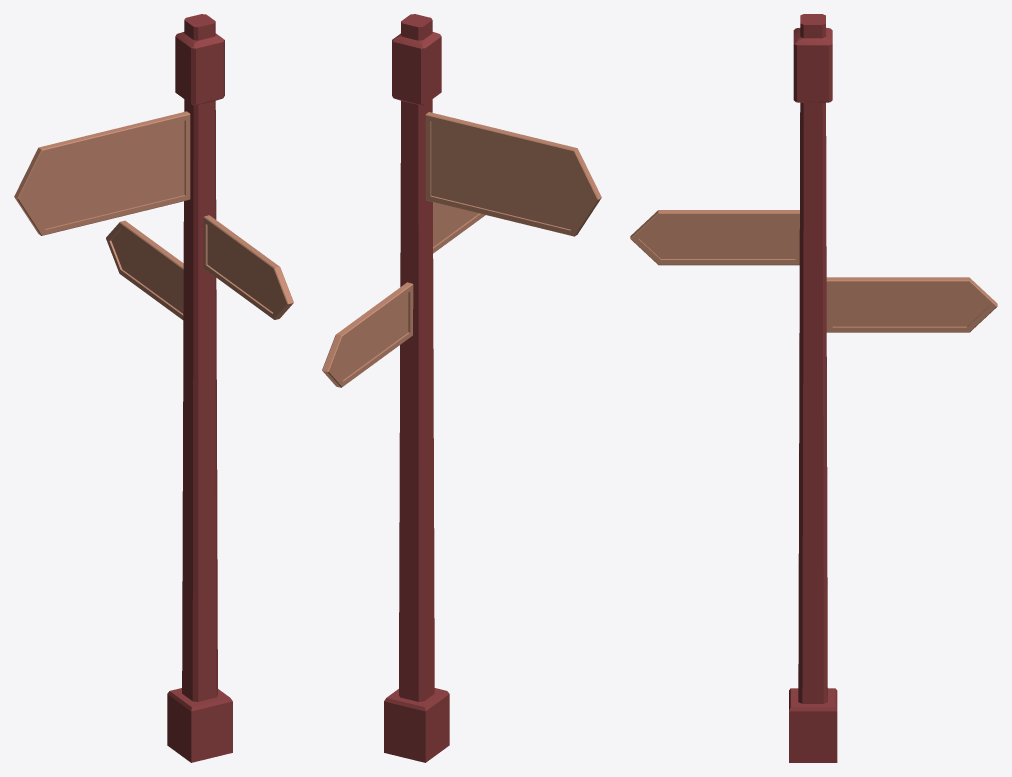
The model's file is streetsign_a002.glb.
3 renders of one model, left to right at view 1: azimuth 30°, elevation 25°; view 2: azimuth 150°, elevation 25°; view 3: azimuth 270°, elevation 25°, orthographic.
Parts seen in each view (by area): view 1: streetsign_a002; view 2: streetsign_a002; view 3: streetsign_a002.
Boxes of the visible parts, x1,y1,x2,y2 form: streetsign_a002: [14, 14, 293, 762]; streetsign_a002: [322, 14, 601, 762]; streetsign_a002: [630, 14, 997, 762].
Size of the model in its own units: 0.5649 by 1.92 by 0.8721.
Materials: 1 (1 with a texture image).
